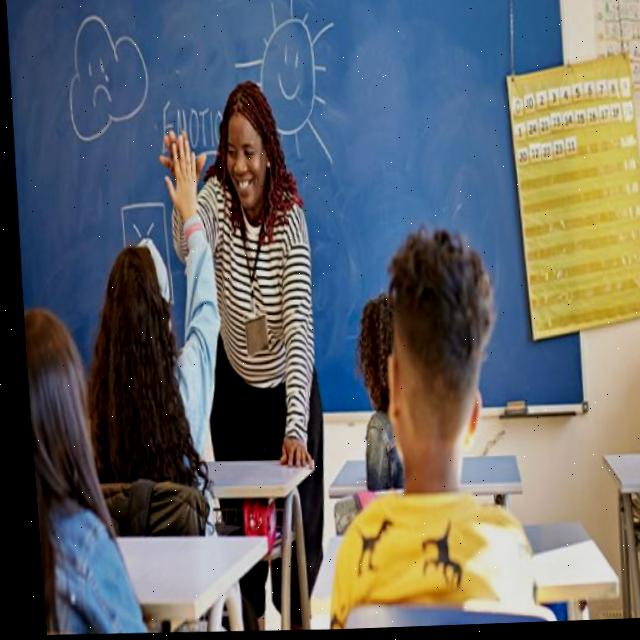id_card: (217, 203, 280, 362)
